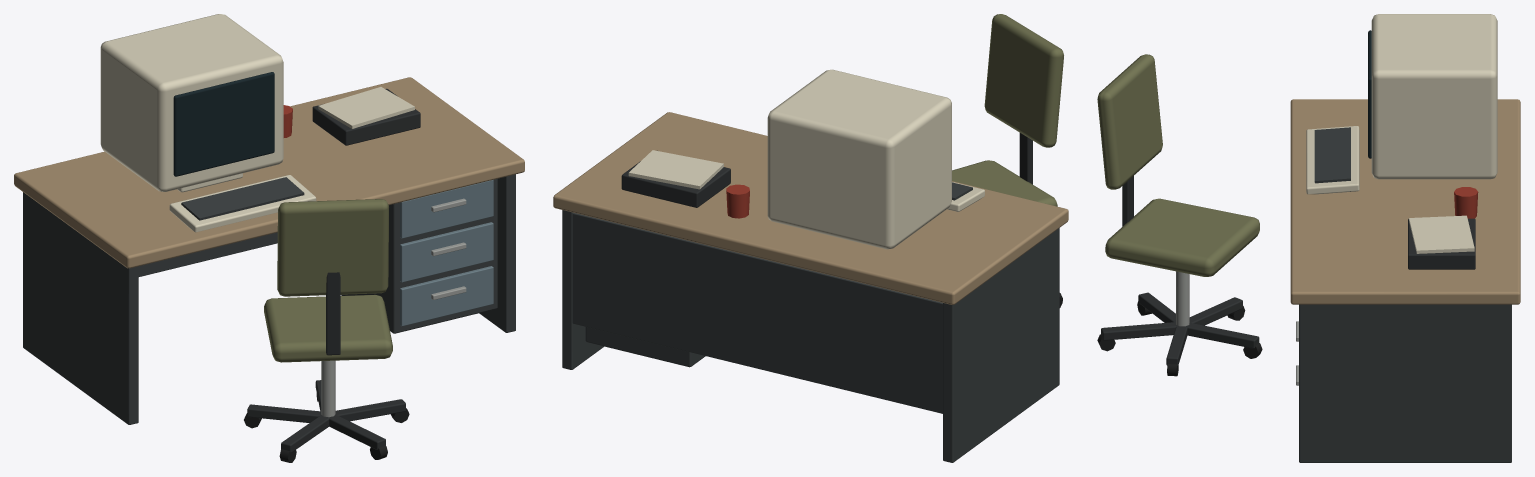
The model's file is office-desk.glb.
The picture shows the model from 3 angles, left to right: view 1: azimuth 30°, elevation 25°; view 2: azimuth 150°, elevation 25°; view 3: azimuth 270°, elevation 25°; orthographic projection.
Visible parts, largest first — view 1: planks, paint-graphite, paint-ivory, burlap-olive, paint-slate, glass, steel-dark, steel, rubber; view 2: paint-graphite, planks, paint-ivory, burlap-olive, steel-dark, paint-red; view 3: paint-graphite, planks, paint-ivory, burlap-olive, steel-dark, steel, rubber, paint-red, glass.
Boxes of the visible parts, box(x1,y1,x2,y2) form: planks: box(14, 77, 524, 268); paint-graphite: box(23, 174, 515, 424); paint-ivory: box(100, 14, 414, 232); burlap-olive: box(264, 199, 392, 362); paint-slate: box(400, 180, 493, 326); glass: box(173, 72, 274, 176); steel-dark: box(247, 88, 420, 453); steel: box(321, 198, 466, 417); rubber: box(244, 393, 409, 462); paint-graphite: box(562, 182, 1059, 462); planks: box(553, 112, 1068, 304); paint-ivory: box(628, 69, 984, 249); burlap-olive: box(952, 14, 1063, 206); steel-dark: box(621, 133, 1032, 207); paint-red: box(726, 184, 749, 218); paint-graphite: box(1299, 127, 1511, 462); planks: box(1290, 99, 1520, 304); paint-ivory: box(1306, 14, 1497, 253); burlap-olive: box(1097, 54, 1259, 276); steel-dark: box(1101, 176, 1475, 366); steel: box(1176, 271, 1298, 385); rubber: box(1097, 301, 1262, 376); paint-red: box(1454, 187, 1478, 218); glass: box(1368, 30, 1371, 158).
Size of the model in its own units: 1.9 by 1.35 by 1.75.
